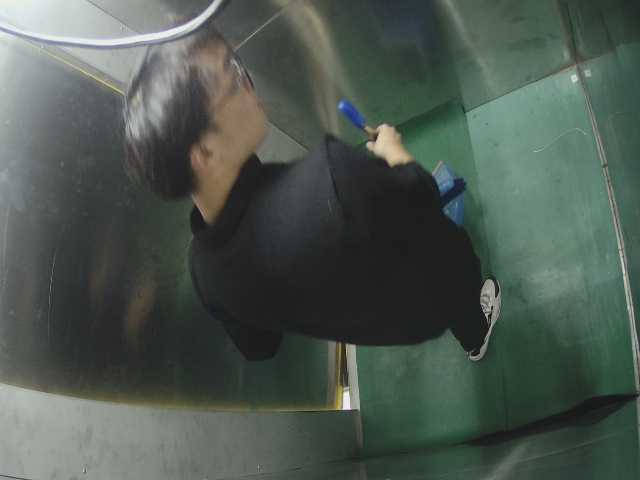person: (109, 20, 514, 359)
